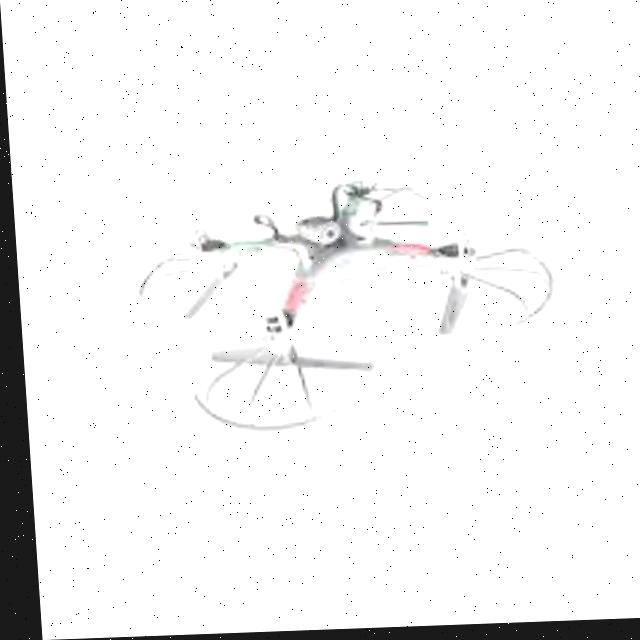drone: (97, 162, 572, 453)
